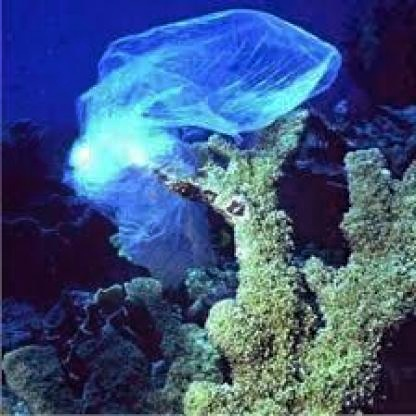pbag: (60, 8, 344, 292)
